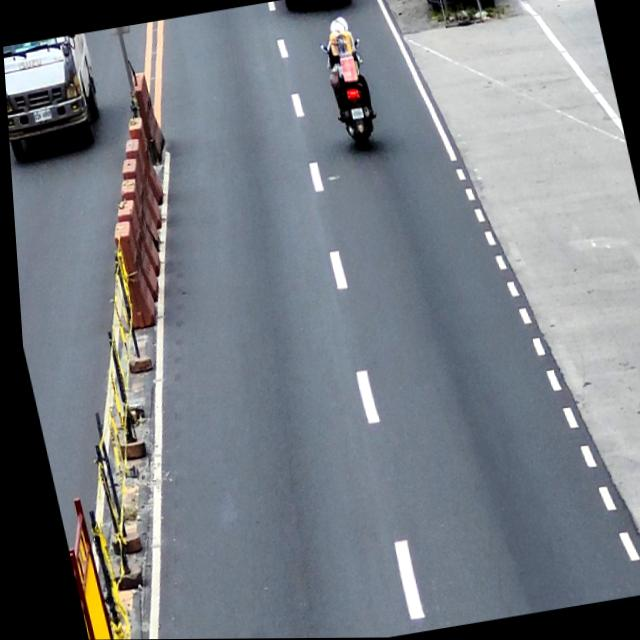License-Plate: (30, 108, 52, 123), (349, 108, 363, 120)
Motorcycle: (319, 37, 382, 155)
Truck: (2, 32, 110, 162)
